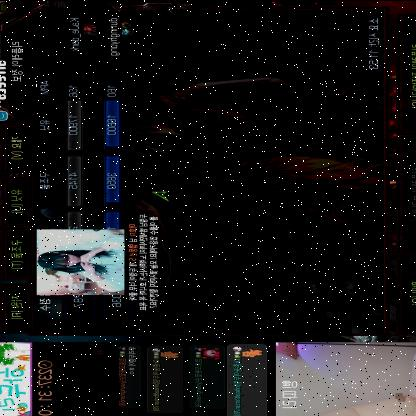donation: (34, 210, 162, 312)
